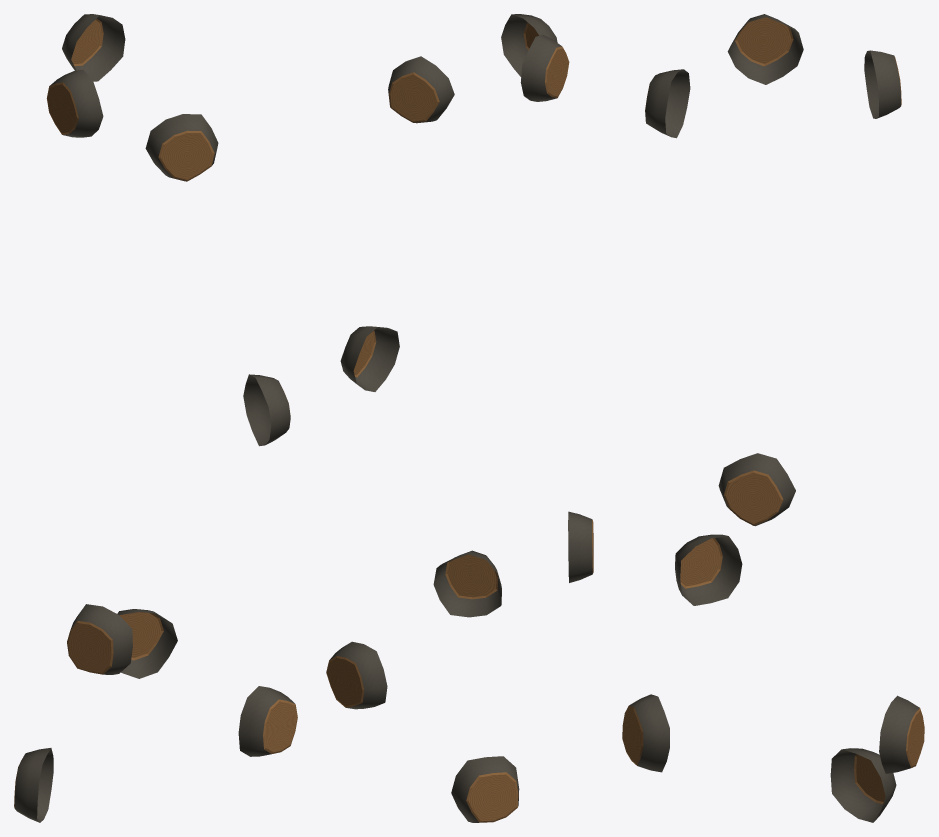
File: Sitka_Pole_01_LowPruned_Recent_LOD2.fbx
3 views of the same model, side by side, from view 1: azimuth 30°, elevation 25°; view 2: azimuth 150°, elevation 25°; view 3: azimuth 270°, elevation 25° (orthographic). The views are drawn at different scales.
Visible parts, largest first — view 1: Sitka_Pole_01_LowPruned_Recent_LOD2_Scars; view 2: Sitka_Pole_01_LowPruned_Recent_LOD2_Scars; view 3: Sitka_Pole_01_LowPruned_Recent_LOD2_Scars.
Boxes of the visible parts, x1,y1,x2,y2 form: Sitka_Pole_01_LowPruned_Recent_LOD2_Scars: (14,14,297,822); Sitka_Pole_01_LowPruned_Recent_LOD2_Scars: (326,14,593,822); Sitka_Pole_01_LowPruned_Recent_LOD2_Scars: (622,14,924,822).
Size of what is drawn, in the model's own units: 15.23 by 49.13 by 16.85.
2 materials, 2 textured.
